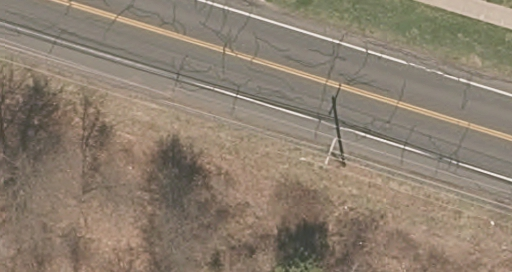DT: (321, 136, 343, 166)
